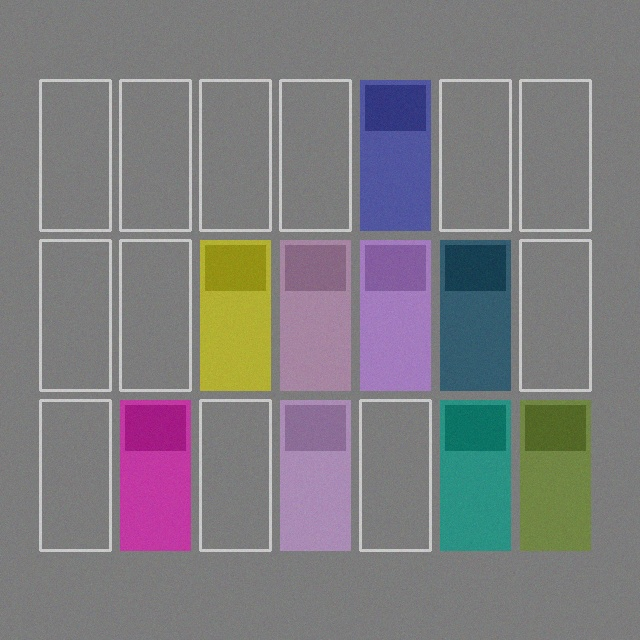space-empty: (40, 80, 110, 230), (120, 80, 190, 230), (200, 80, 270, 230), (280, 80, 350, 230), (440, 80, 510, 230), (520, 80, 590, 230), (40, 240, 110, 390), (120, 240, 190, 390), (520, 240, 590, 390), (40, 400, 110, 550), (200, 400, 270, 550), (360, 400, 430, 550)
space-occupied: (360, 80, 430, 230), (200, 240, 270, 390), (280, 240, 350, 390), (360, 240, 430, 390), (440, 240, 510, 390), (120, 400, 190, 550), (280, 400, 350, 550), (440, 400, 510, 550), (520, 400, 590, 550)
